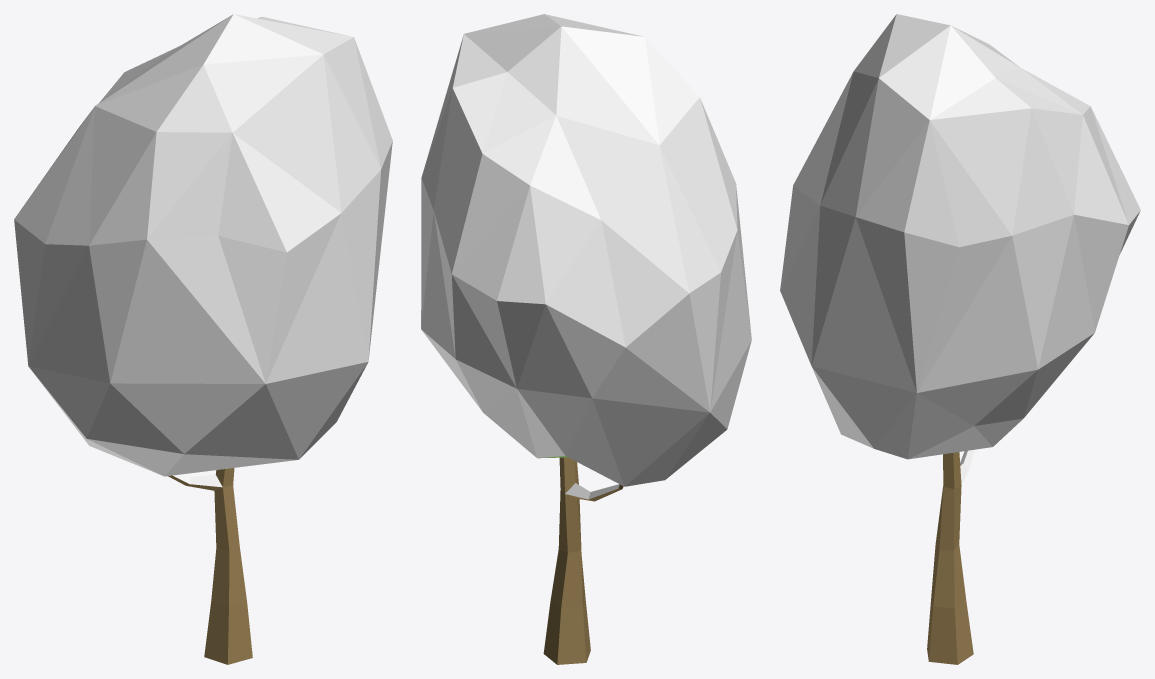
The model's file is Oak_Tree_m_Snow_02_LOD.fbx.
The picture shows the model from 3 angles, left to right: view 1: azimuth 30°, elevation 25°; view 2: azimuth 150°, elevation 25°; view 3: azimuth 270°, elevation 25°; orthographic projection.
Visible parts, largest first — view 1: Oak_Tree_m_Snow_02_LOD0; view 2: Oak_Tree_m_Snow_02_LOD0; view 3: Oak_Tree_m_Snow_02_LOD0.
Part boxes in pixels (x1,y1,x2,y2): Oak_Tree_m_Snow_02_LOD0: (14,14,392,664); Oak_Tree_m_Snow_02_LOD0: (421,14,751,664); Oak_Tree_m_Snow_02_LOD0: (780,14,1140,664).
Size of what is drawn, in the model's own units: 479 by 930 by 481.
